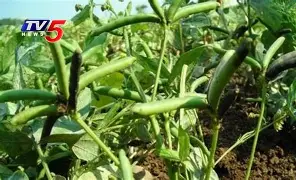crops: (0, 0, 291, 177)
